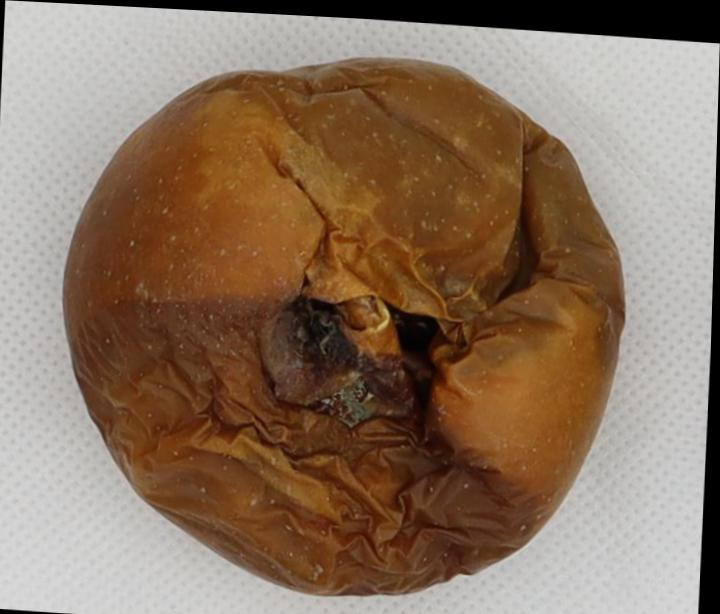apple: (64, 59, 623, 593)
rot_mold_decay: (64, 59, 623, 593)
